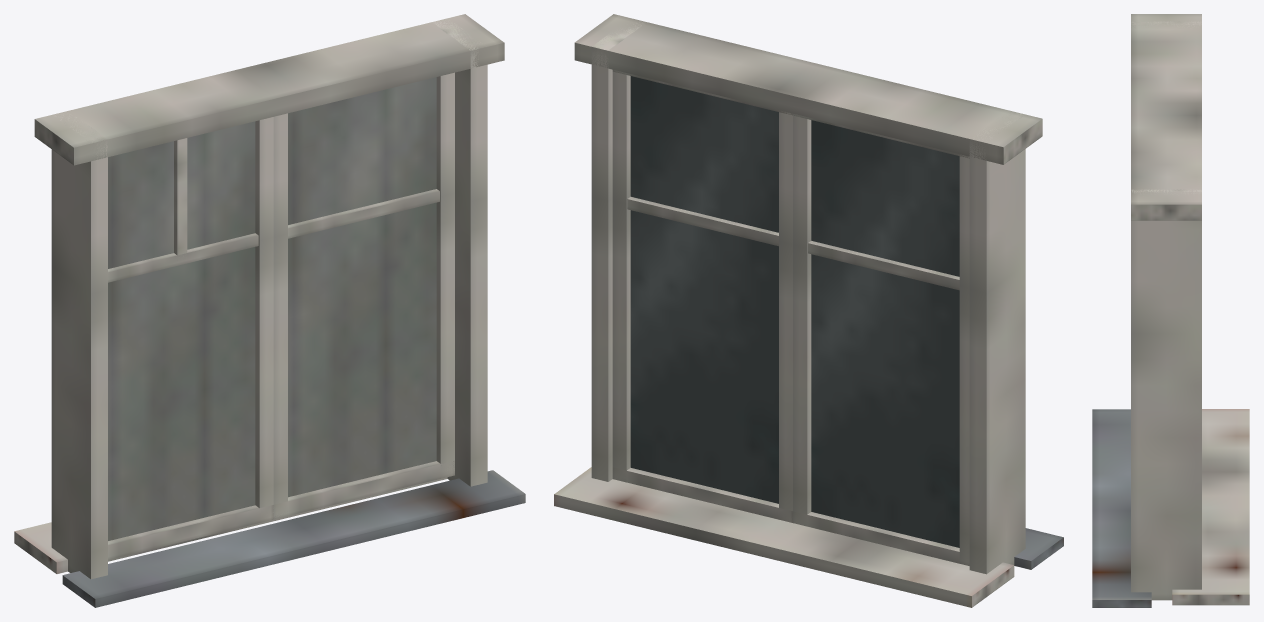
File: window_curtains.fbx
3 renders of one model, left to right at view 1: azimuth 30°, elevation 25°; view 2: azimuth 150°, elevation 25°; view 3: azimuth 270°, elevation 25°, orthographic. The views are drawn at different scales.
Parts seen in each view (by area): view 1: window_curtains; view 2: window_curtains; view 3: window_curtains.
Boxes of the visible parts, bbox=[...] form: window_curtains: bbox=[14, 14, 525, 607]; window_curtains: bbox=[554, 14, 1063, 607]; window_curtains: bbox=[1092, 14, 1249, 607].
Size of the model in its own units: 1.52 by 1.5 by 0.53.
